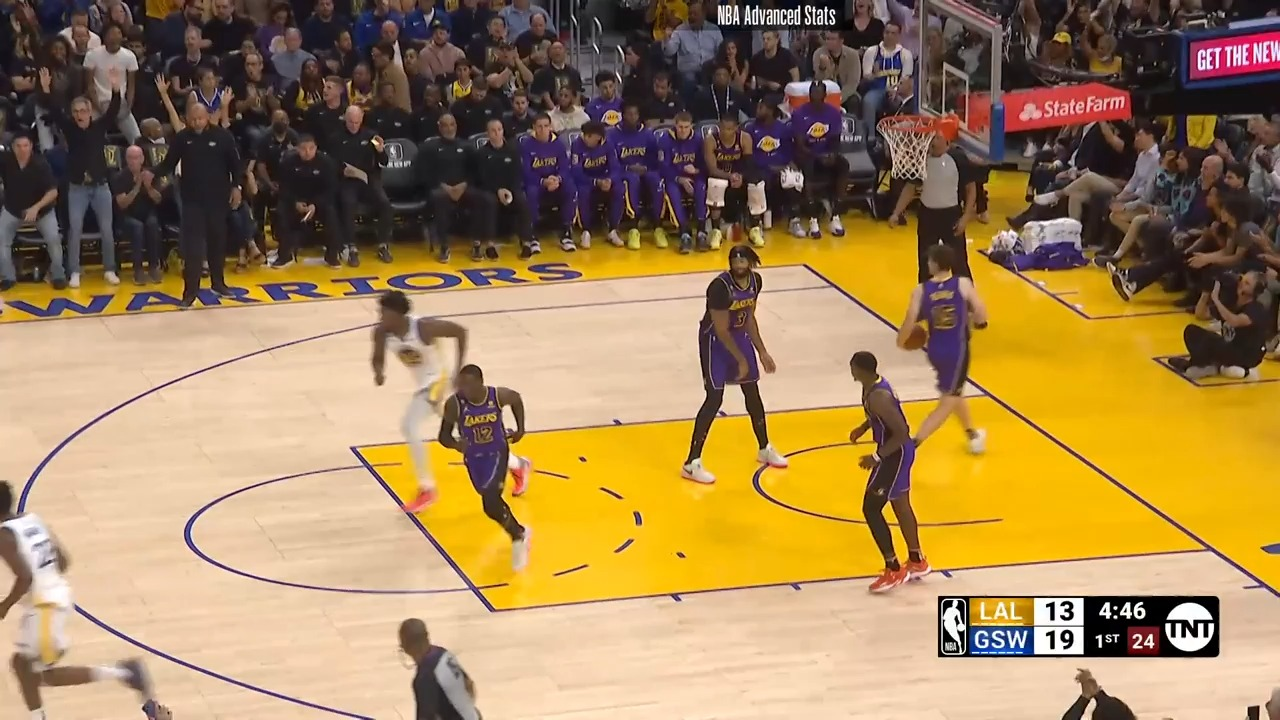net: (875, 108, 965, 189)
player: (0, 476, 167, 720), (367, 281, 474, 532), (681, 246, 789, 491), (427, 364, 535, 586), (831, 347, 924, 599), (901, 240, 997, 459)
referee: (896, 132, 988, 264), (387, 612, 496, 717)
